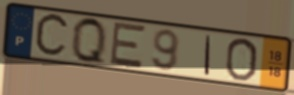9: (151, 28, 182, 73)
C: (32, 11, 72, 60)
E: (108, 21, 148, 71)
I: (202, 33, 213, 78)
O: (223, 37, 260, 83)
Q: (70, 15, 108, 68)
